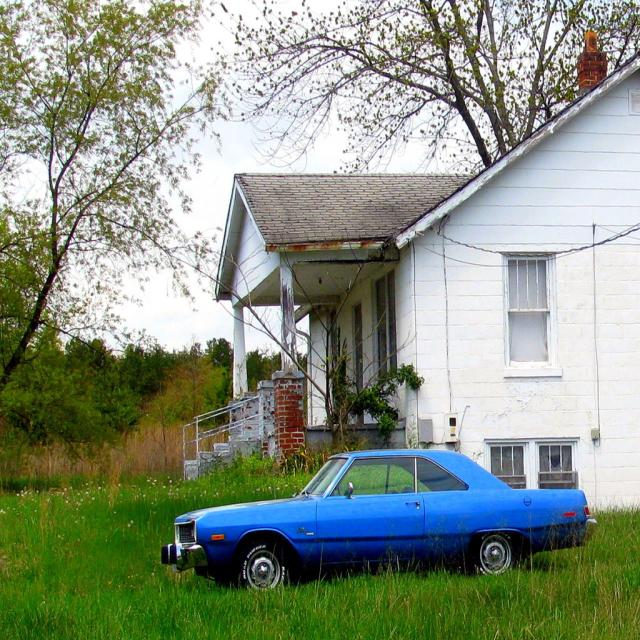car: (158, 448, 592, 592)
